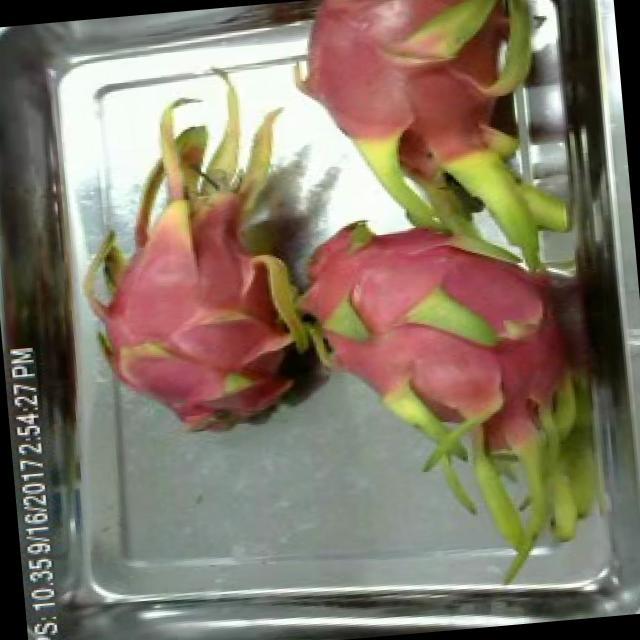Fruit: (374, 296, 522, 442)
